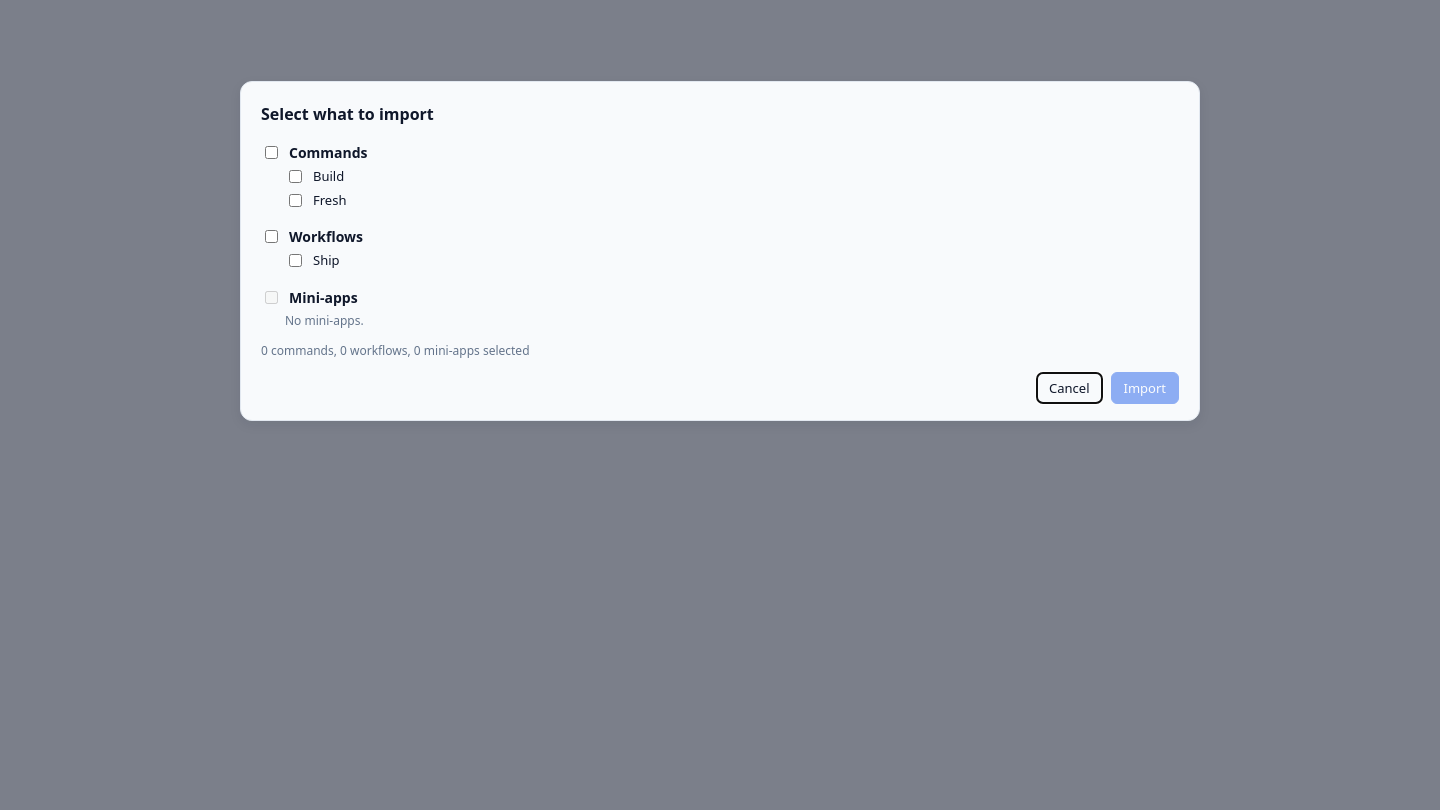
ImportDialog › shows the name-duplicate notice only after the colliding row is checked
The image size is (1440, 810).
Check: the text "A command with this name already exists" is not shown
Click the checkbox labelled "Build".
click(296, 177)  # box x1=289 y1=170 x2=302 y2=183
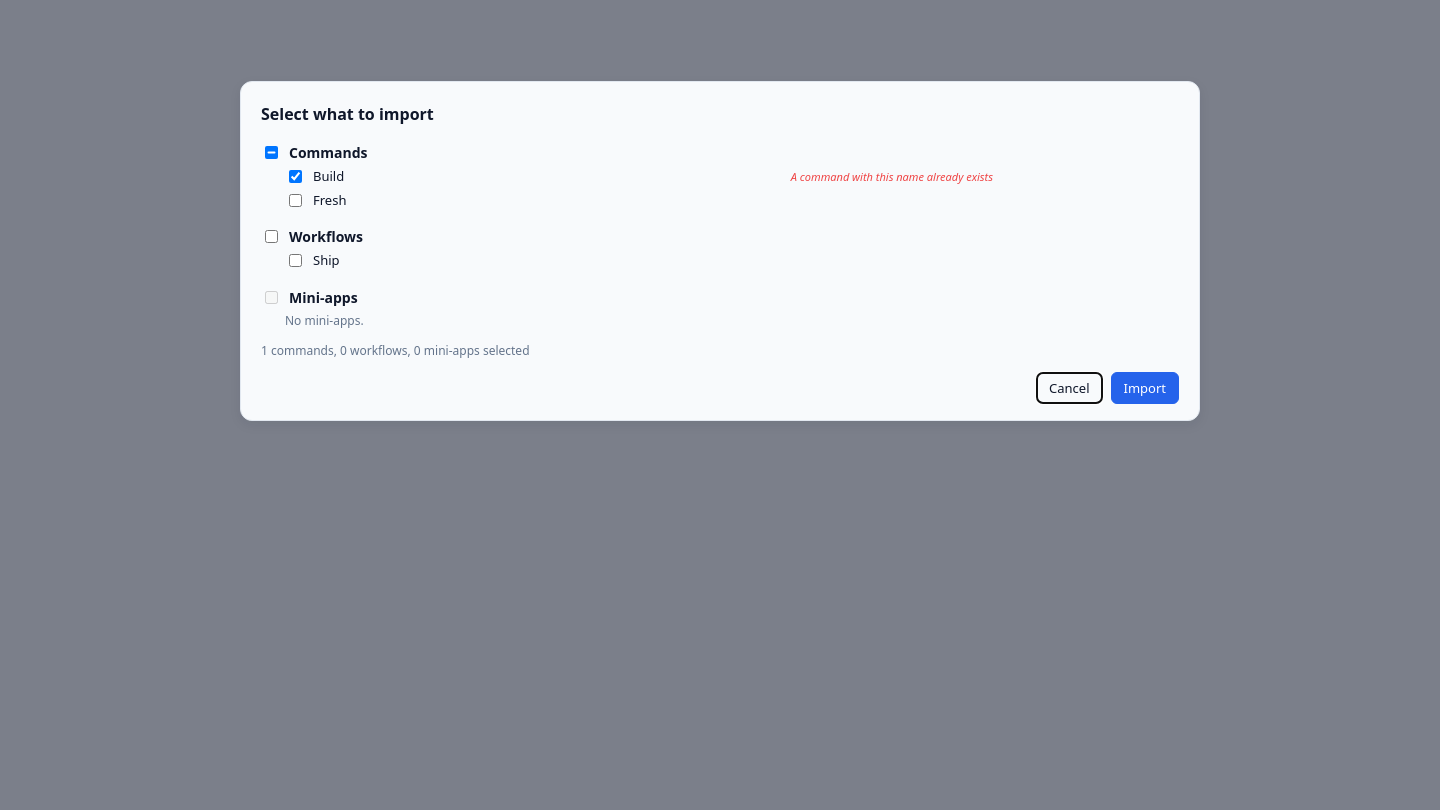
Check: the text "A command with this name already exists" is shown, box x1=791 y1=168 x2=993 y2=185
